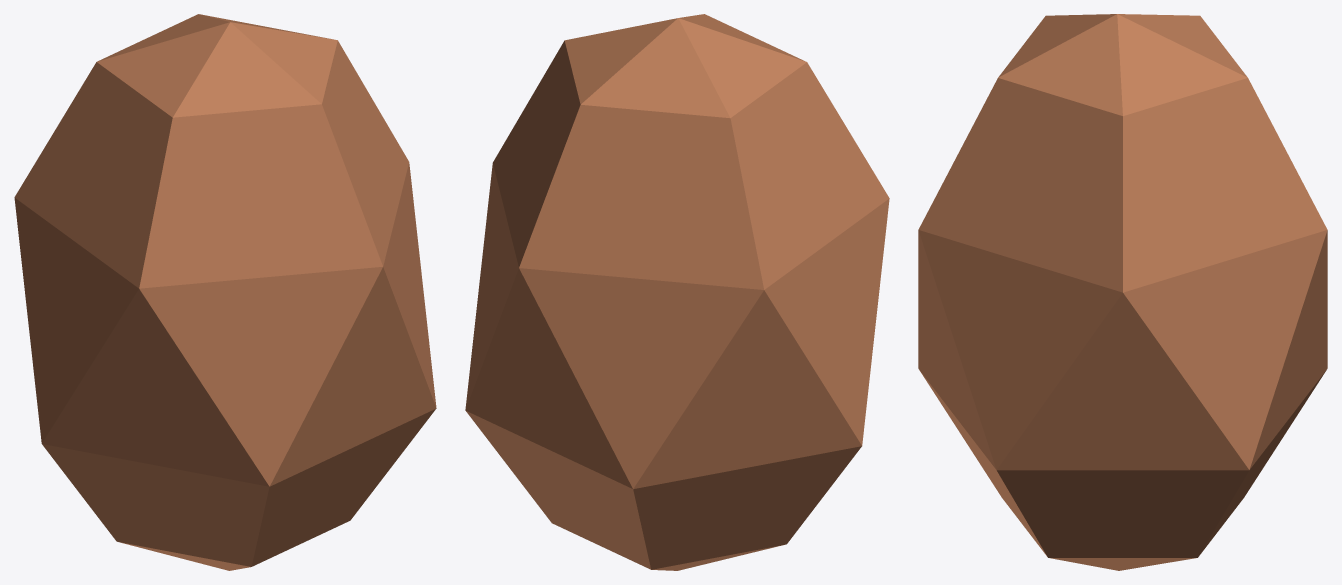
Rendered from seed.fbx.
3 renders of one model, left to right at view 1: azimuth 30°, elevation 25°; view 2: azimuth 150°, elevation 25°; view 3: azimuth 270°, elevation 25°, orthographic.
Parts seen in each view (by area): view 1: seed; view 2: seed; view 3: seed.
Boxes of the visible parts, bbox=[...] form: seed: bbox=[14, 14, 436, 570]; seed: bbox=[465, 14, 889, 570]; seed: bbox=[918, 14, 1327, 570].
Bounding box in the file's own units: 24.81 × 35.44 × 23.59.
